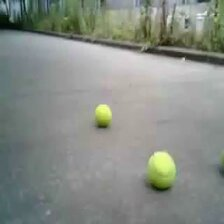tennis: (146, 151, 176, 190), (96, 104, 112, 126)
